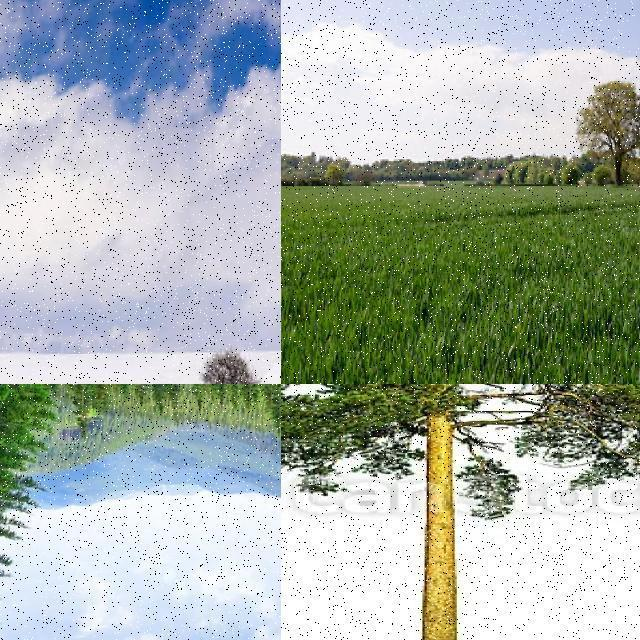tree: (280, 384, 640, 640), (1, 384, 64, 640), (0, 384, 54, 640), (572, 73, 640, 191), (62, 384, 106, 464), (161, 384, 213, 444), (198, 346, 278, 384), (231, 384, 281, 440), (186, 384, 230, 438), (145, 384, 187, 440), (216, 384, 258, 440), (95, 384, 134, 438), (259, 384, 281, 448), (0, 384, 16, 420)
